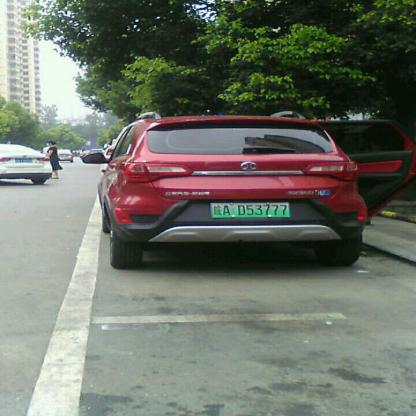lp: (210, 201, 291, 218)
